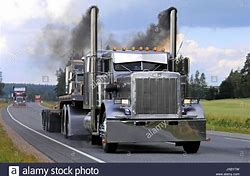smoke: (43, 4, 99, 50), (127, 7, 178, 46)
